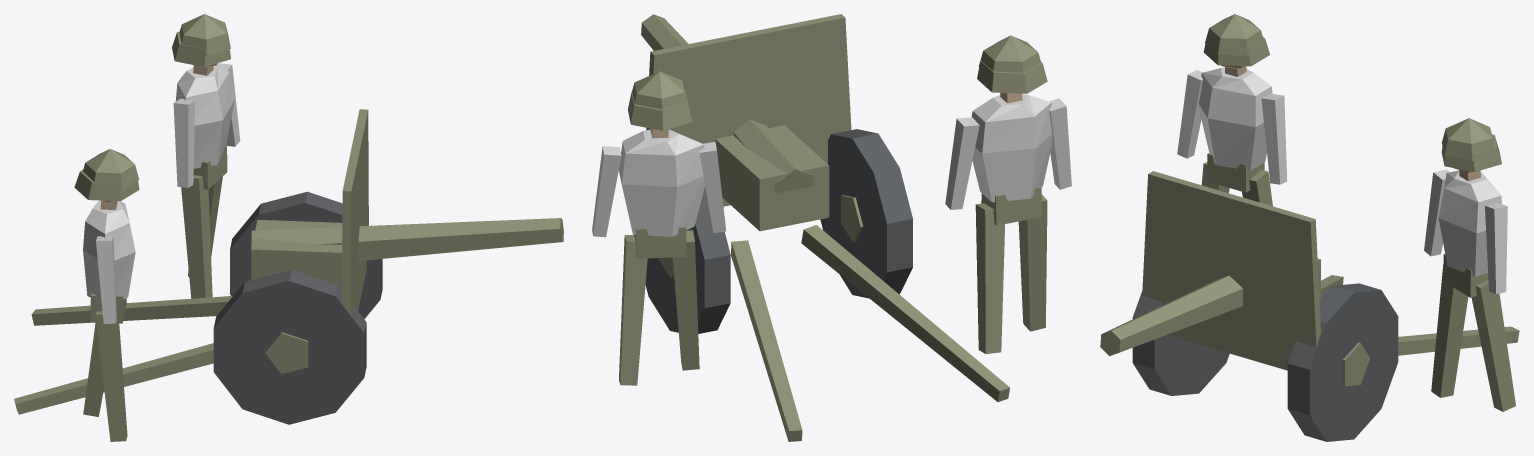
The model's file is anti-tank-gun.glb.
3 renders of one model, left to right at view 1: azimuth 30°, elevation 25°; view 2: azimuth 150°, elevation 25°; view 3: azimuth 270°, elevation 25°, orthographic. The views are drawn at different scales.
Parts seen in each view (by area): view 1: LOD0; view 2: LOD0; view 3: LOD0.
Boxes of the visible parts, bbox=[...] form: LOD0: bbox=[14, 14, 563, 441]; LOD0: bbox=[592, 14, 1071, 441]; LOD0: bbox=[1100, 14, 1519, 441].
Size of what is drawn, in the model's own units: 1.16 by 0.7296 by 0.9301.
